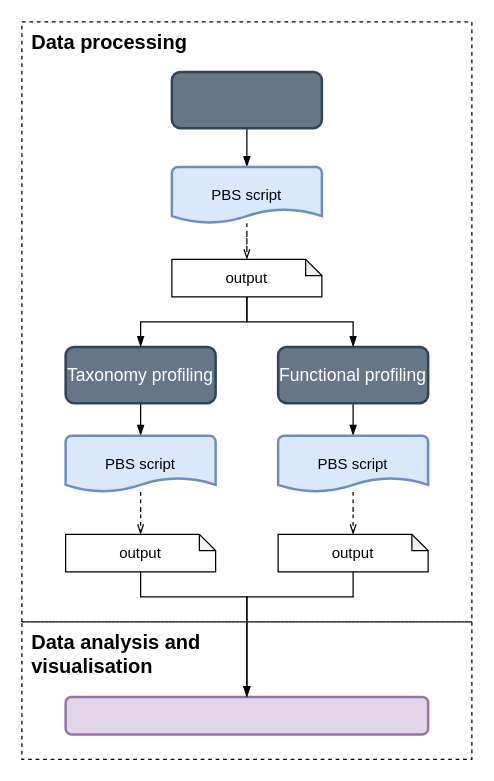
Image size: 494x781. Some labels were removed from this diagram. Each missing label, with the centre of its shape:
"QC step" belongs at point (246, 99).
"Visualisation and analysis" belongs at point (246, 715).
